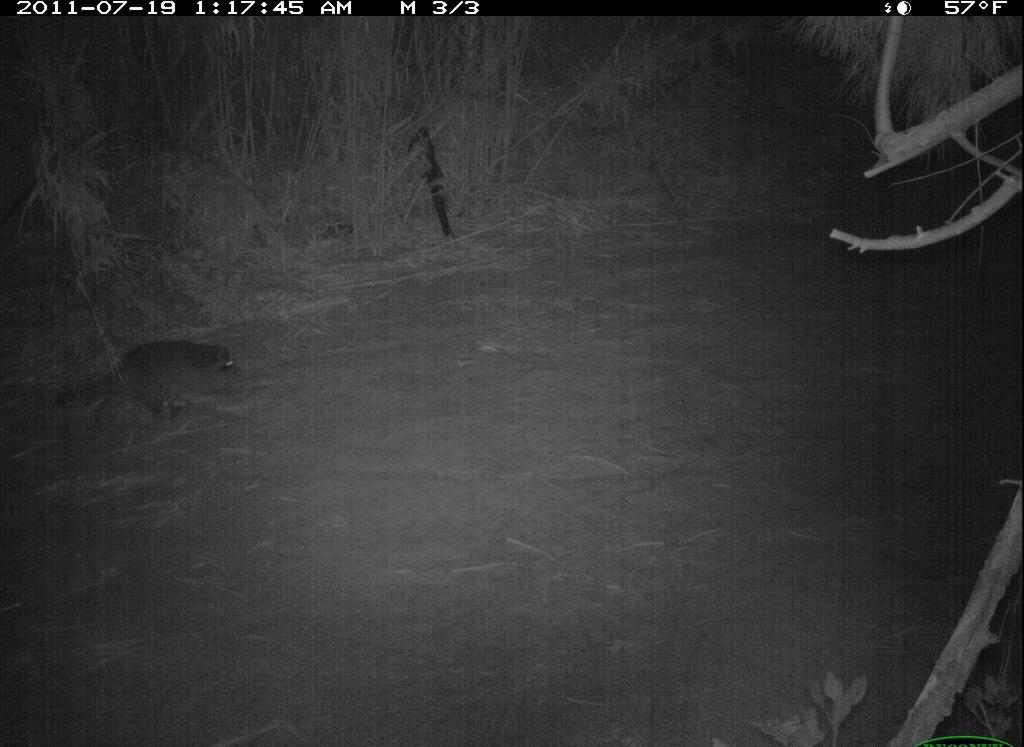raccoon: (40, 322, 264, 440)
